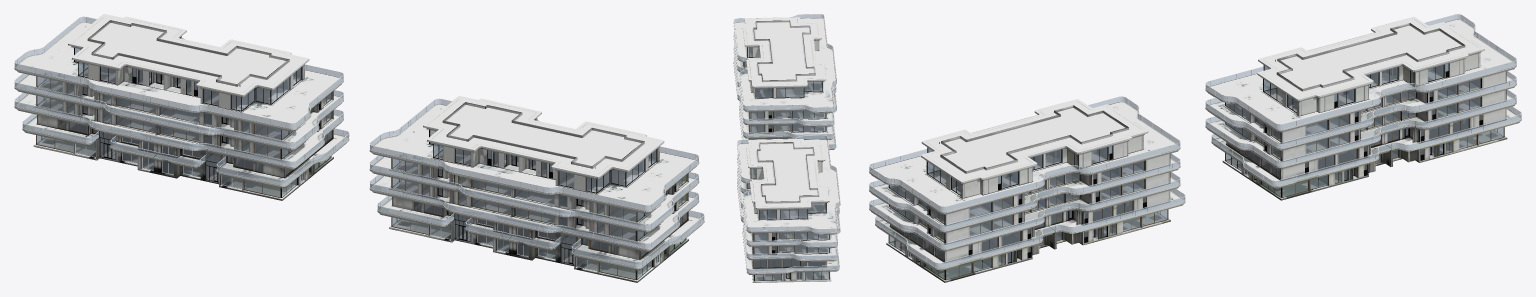
File: Elie Saab_build_2.glb
The picture shows the model from 3 angles, left to right: view 1: azimuth 30°, elevation 25°; view 2: azimuth 150°, elevation 25°; view 3: azimuth 270°, elevation 25°; orthographic projection. The views are drawn at different scales.
Visible parts, largest first — view 1: Elie Saab_build.002; view 2: Elie Saab_build.002; view 3: Elie Saab_build.002.
Part boxes in pixels (left/top/right/bottom): Elie Saab_build.002: left=14, top=14, right=704, bottom=282; Elie Saab_build.002: left=733, top=14, right=840, bottom=282; Elie Saab_build.002: left=869, top=14, right=1521, bottom=282.
Bounding box in the file's own units: 80.11 × 18.6 × 113.
Materials: 8 (4 with a texture image).
